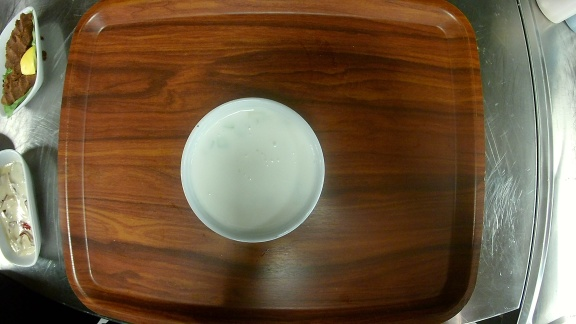cacik: (180, 97, 326, 243)
